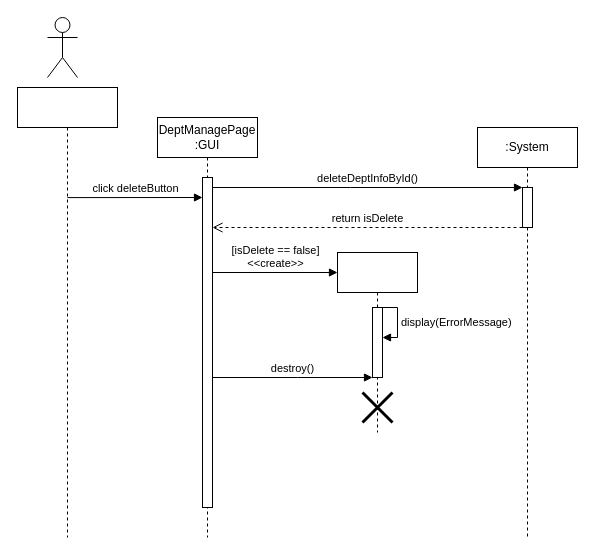
The diagram is 595 pixels wide and 555 high, and some of its shapes have lost their labels. Each missing label, with the box of its shape:
SystemError :GUI: (336, 252, 418, 432)
User: (16, 86, 118, 538)
